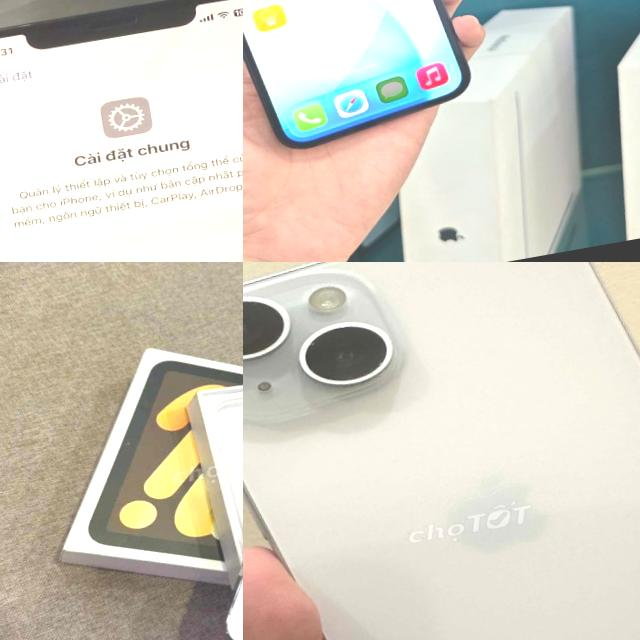gen_12_13: (243, 0, 478, 165)
gen_15: (243, 262, 640, 640)
gen_x_xs: (0, 0, 243, 262)
scratch: (295, 312, 395, 392)
